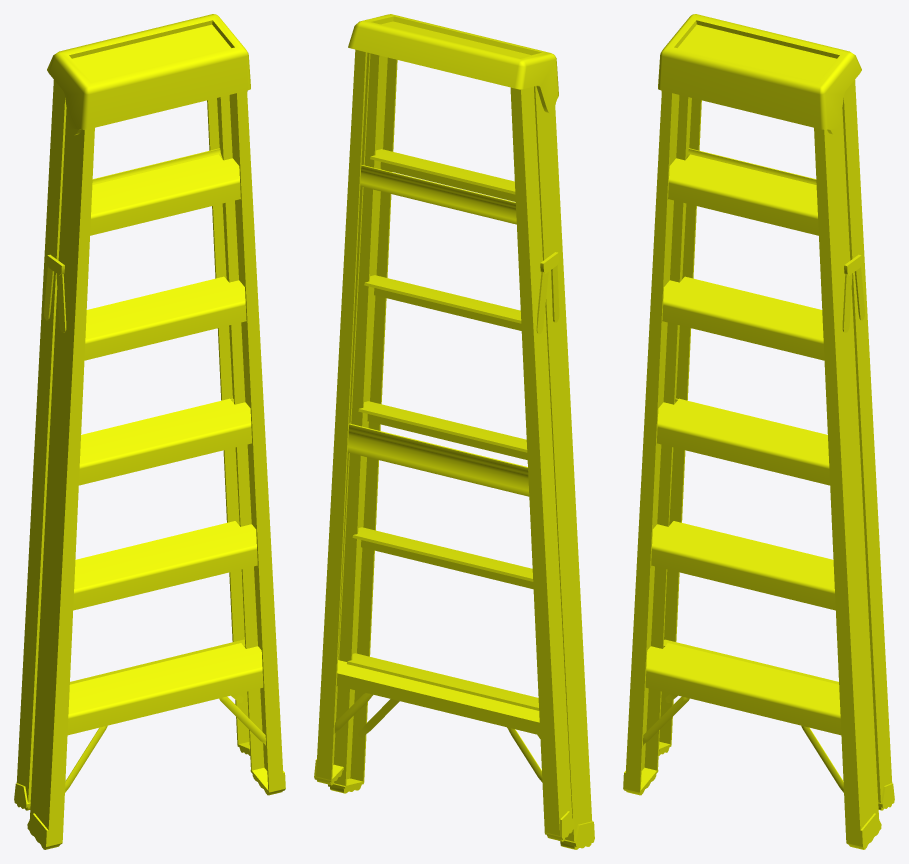
Rendered from SM_Ladder_01a.FBX.
3 renders of one model, left to right at view 1: azimuth 30°, elevation 25°; view 2: azimuth 150°, elevation 25°; view 3: azimuth 330°, elevation 25°, orthographic. The views are drawn at different scales.
Parts seen in each view (by area): view 1: SM_Ladder_01a_SM_Ladder_Close_LOD0; view 2: SM_Ladder_01a_SM_Ladder_Close_LOD0; view 3: SM_Ladder_01a_SM_Ladder_Close_LOD0.
Boxes of the visible parts, x1,y1,x2,y2 form: SM_Ladder_01a_SM_Ladder_Close_LOD0: [14, 14, 285, 849]; SM_Ladder_01a_SM_Ladder_Close_LOD0: [314, 14, 594, 849]; SM_Ladder_01a_SM_Ladder_Close_LOD0: [623, 14, 894, 849].
Size of what is drawn, in the model's own units: 62.09 by 190 by 17.17.
